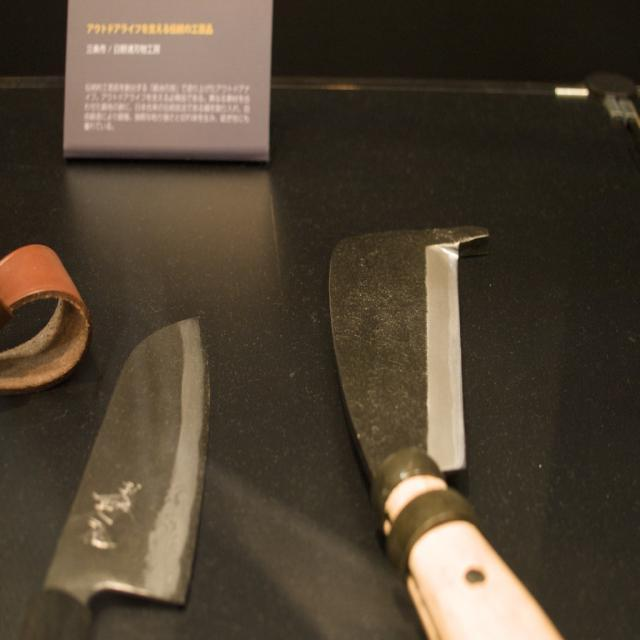Knife: (329, 226, 562, 639), (21, 319, 209, 640)
